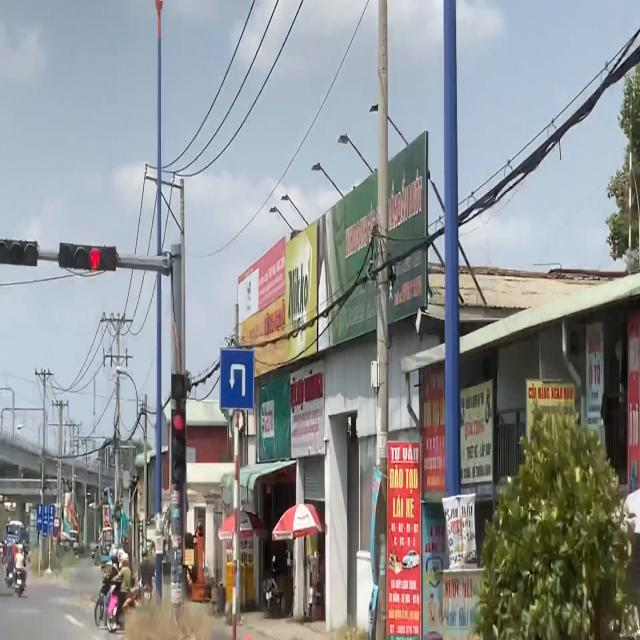Chi dan: (219, 346, 255, 410)
